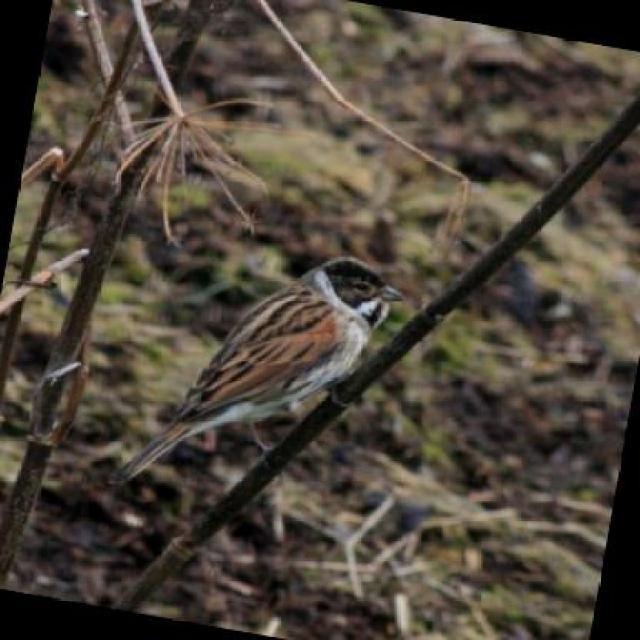Bird: (110, 244, 411, 489)
